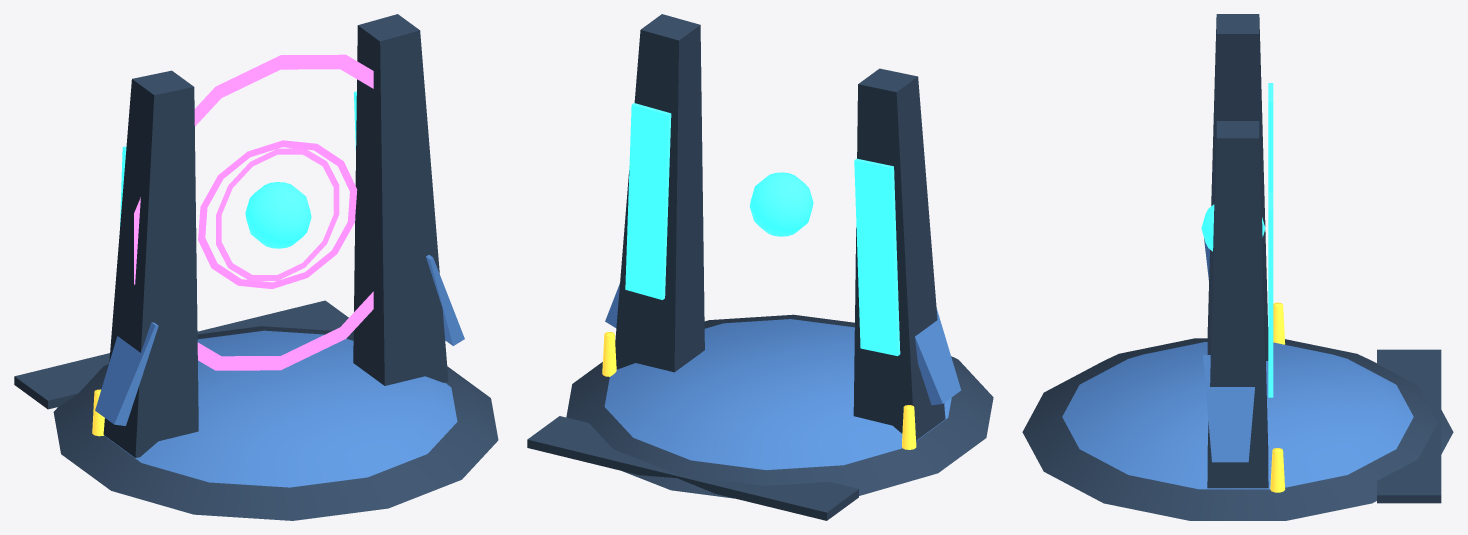
File: command-horizon-arrival-gate-lod1.glb
3 views of the same model, side by side, from view 1: azimuth 30°, elevation 25°; view 2: azimuth 150°, elevation 25°; view 3: azimuth 270°, elevation 25° (orthographic). The views are drawn at different scales.
Visible parts, largest first — view 1: arrival-tier, arrival-pylon-1, arrival-pylon--1, arrival-plinth, arrival-arch, arrival-front-step, arrival-core, arrival-orbit-1, arrival-fin--1, arrival-orbit-0, arrival-fin-1; view 2: arrival-tier, arrival-pylon-1, arrival-pylon--1, arrival-plinth, arrival-panel--1, arrival-panel-1, arrival-front-step, arrival-core, arrival-fin--1, arrival-beacon--1, arrival-beacon-1; view 3: arrival-tier, arrival-plinth, arrival-pylon-1, arrival-pylon--1, arrival-front-step, arrival-fin-1, arrival-panel-1, arrival-panel--1, arrival-beacon-1.
Boxes of the visible parts, <box> form: arrival-tier: <box>104,330,457,487</box>; arrival-pylon-1: <box>353,14,448,385</box>; arrival-pylon--1: <box>103,70,198,457</box>; arrival-plinth: <box>53,326,498,520</box>; arrival-arch: <box>134,54,373,370</box>; arrival-front-step: <box>14,300,353,409</box>; arrival-core: <box>245,182,311,248</box>; arrival-orbit-1: <box>198,140,357,288</box>; arrival-fin--1: <box>95,322,158,425</box>; arrival-orbit-0: <box>216,148,339,280</box>; arrival-fin-1: <box>426,255,464,345</box>; arrival-tier: <box>604,319,951,470</box>; arrival-pylon-1: <box>615,14,704,372</box>; arrival-pylon--1: <box>853,68,945,440</box>; arrival-plinth: <box>566,314,993,498</box>; arrival-panel--1: <box>854,158,900,356</box>; arrival-panel-1: <box>625,103,671,299</box>; arrival-front-step: <box>527,416,858,520</box>; arrival-core: <box>749,172,813,236</box>; arrival-fin--1: <box>915,308,961,405</box>; arrival-beacon--1: <box>902,405,916,449</box>; arrival-beacon-1: <box>602,332,616,376</box>; arrival-tier: <box>1062,342,1413,489</box>; arrival-plinth: <box>1022,338,1453,520</box>; arrival-pylon-1: <box>1207,121,1268,488</box>; arrival-pylon--1: <box>1207,14,1268,360</box>; arrival-front-step: <box>1377,349,1441,503</box>; arrival-fin-1: <box>1203,355,1254,462</box>; arrival-panel-1: <box>1268,192,1273,397</box>; arrival-panel--1: <box>1268,83,1273,192</box>; arrival-beacon-1: <box>1270,448,1285,492</box>.
Bounding box in the file's own units: 5.5 × 5.18 × 5.64.
